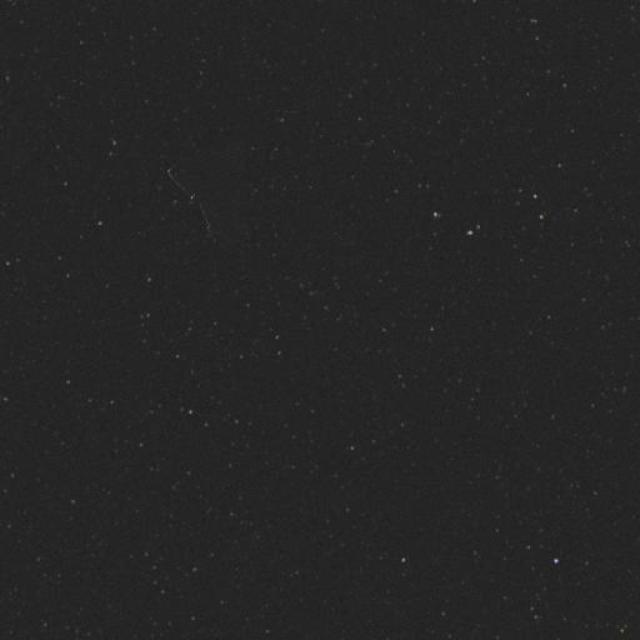debris: (150, 140, 257, 256)
